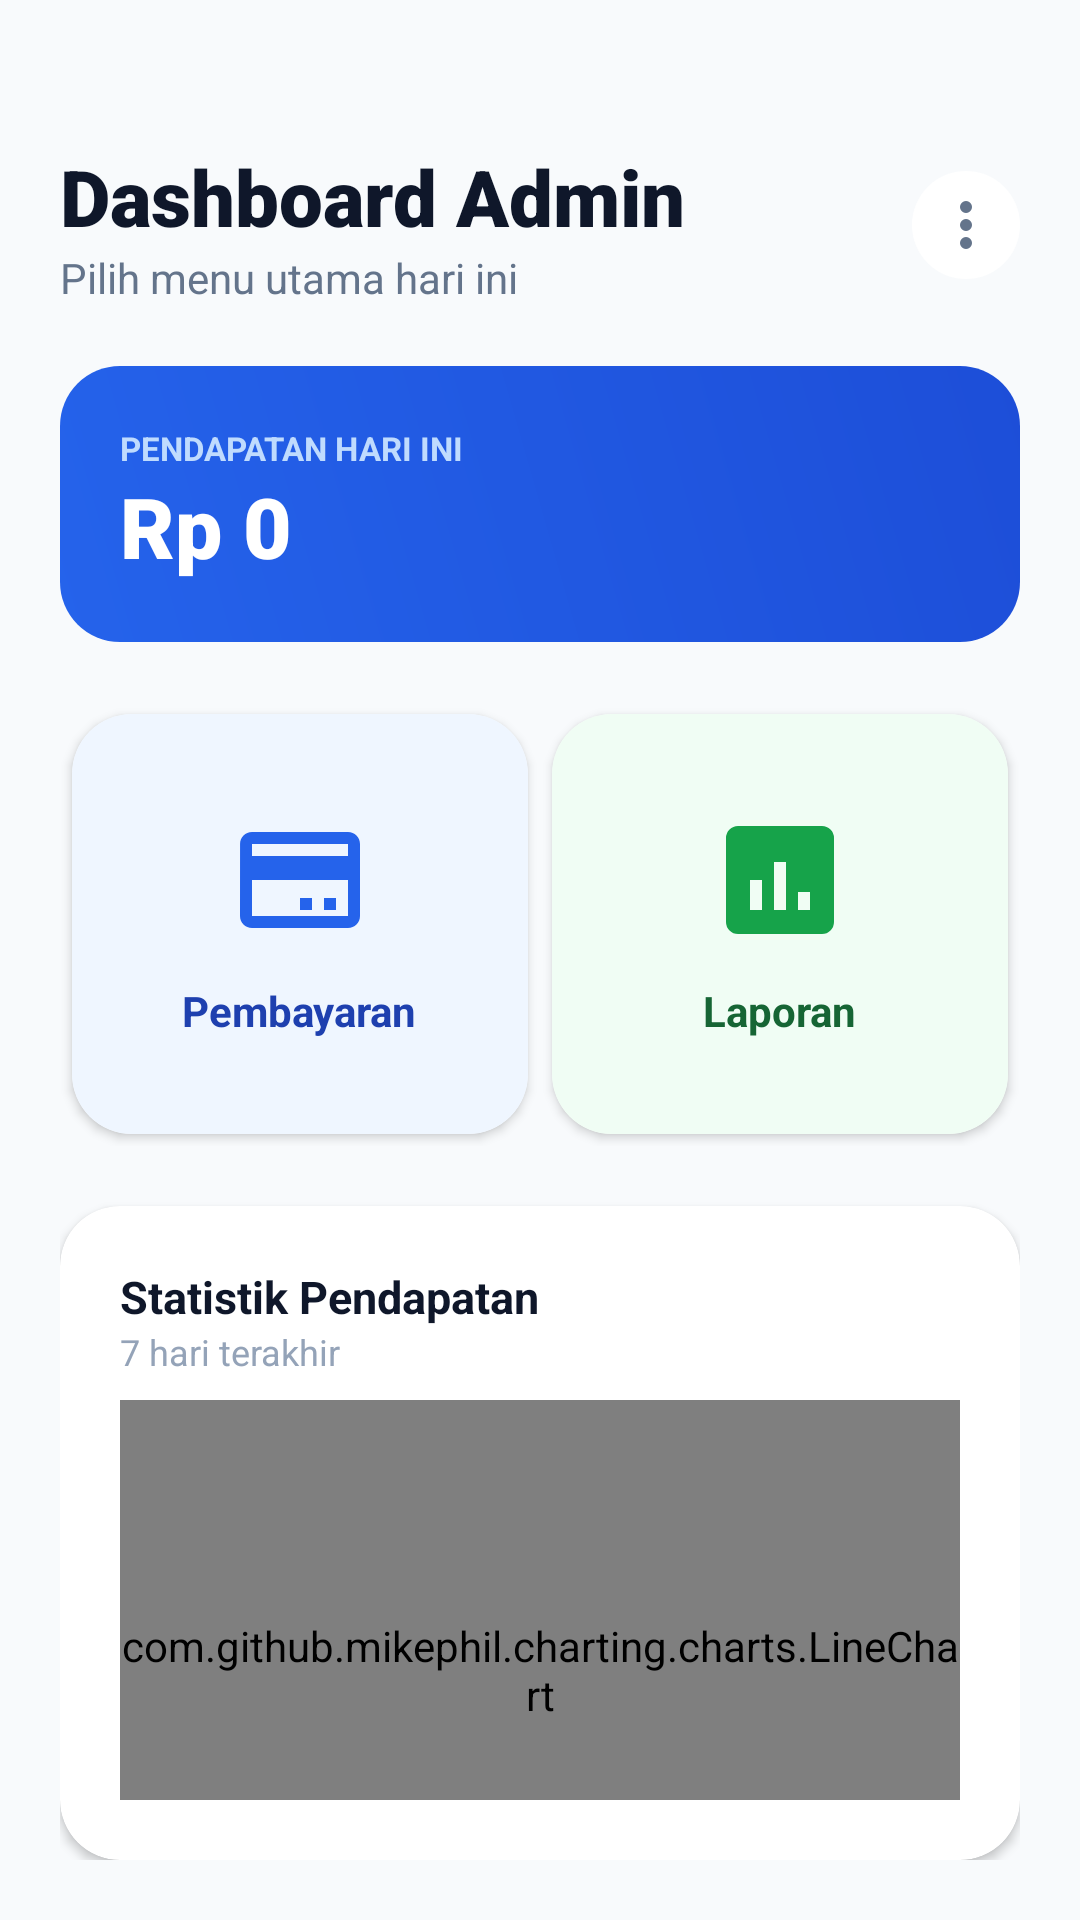

Named icons in this screenshot (1080*1920) and their bounding boxes, rect(x1, y1, x2, y2):
more vert: rect(960, 201, 972, 249)
payment: rect(240, 832, 360, 928)
